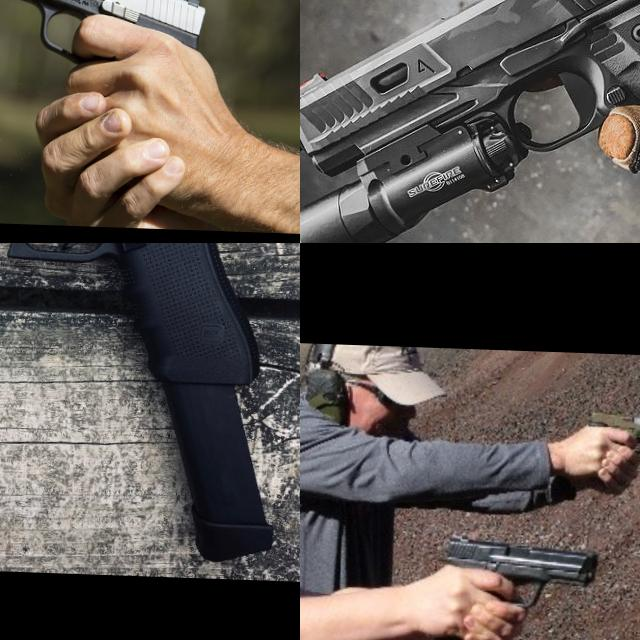handgun: (300, 0, 640, 243), (0, 243, 276, 393), (0, 0, 213, 73), (434, 527, 604, 614), (584, 407, 640, 457)
